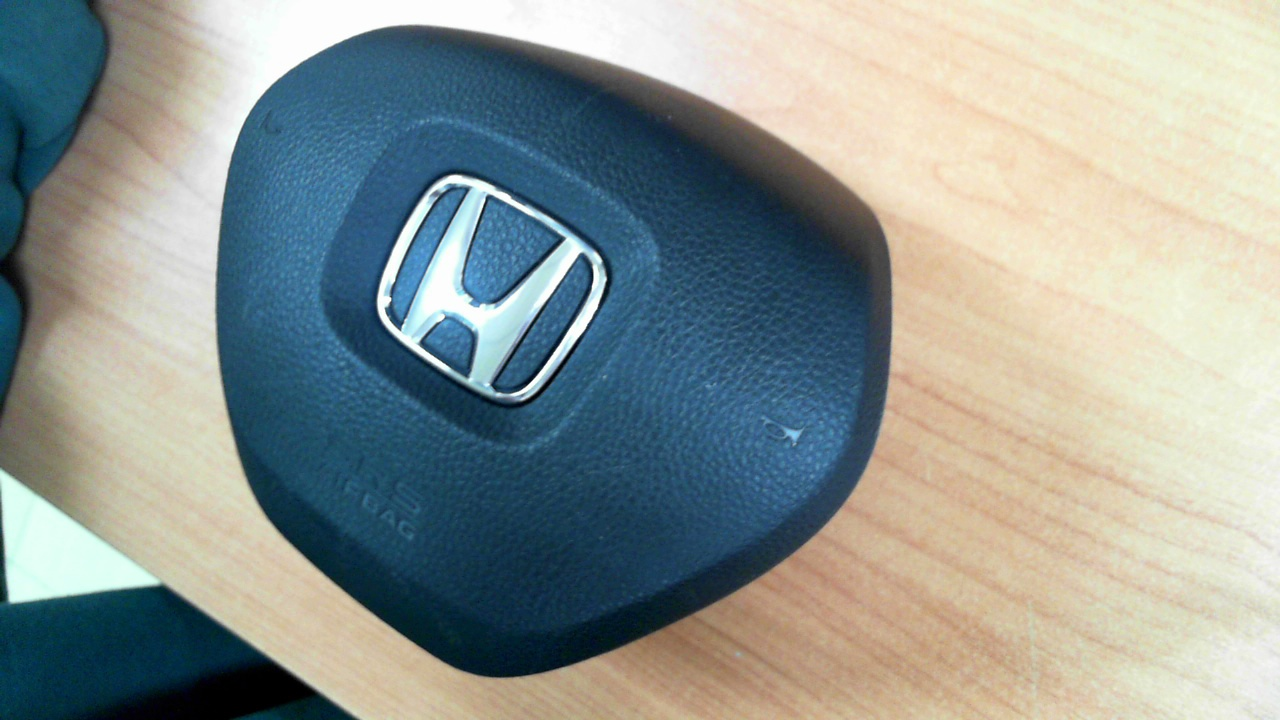Airbag: (215, 24, 892, 678)
Honda: (375, 173, 608, 405)
